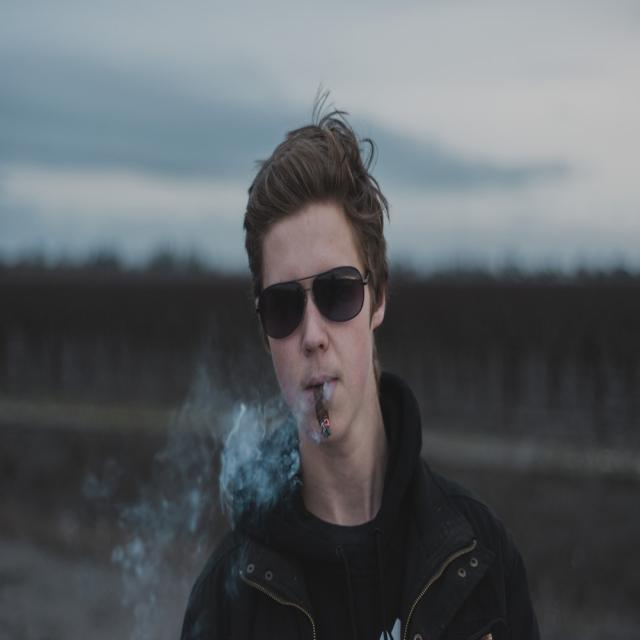human: (174, 97, 547, 640)
